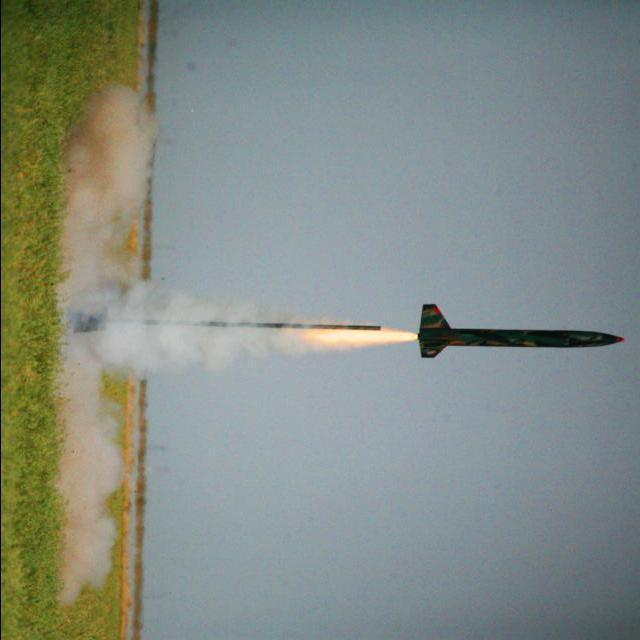missile: (409, 297, 626, 368)
